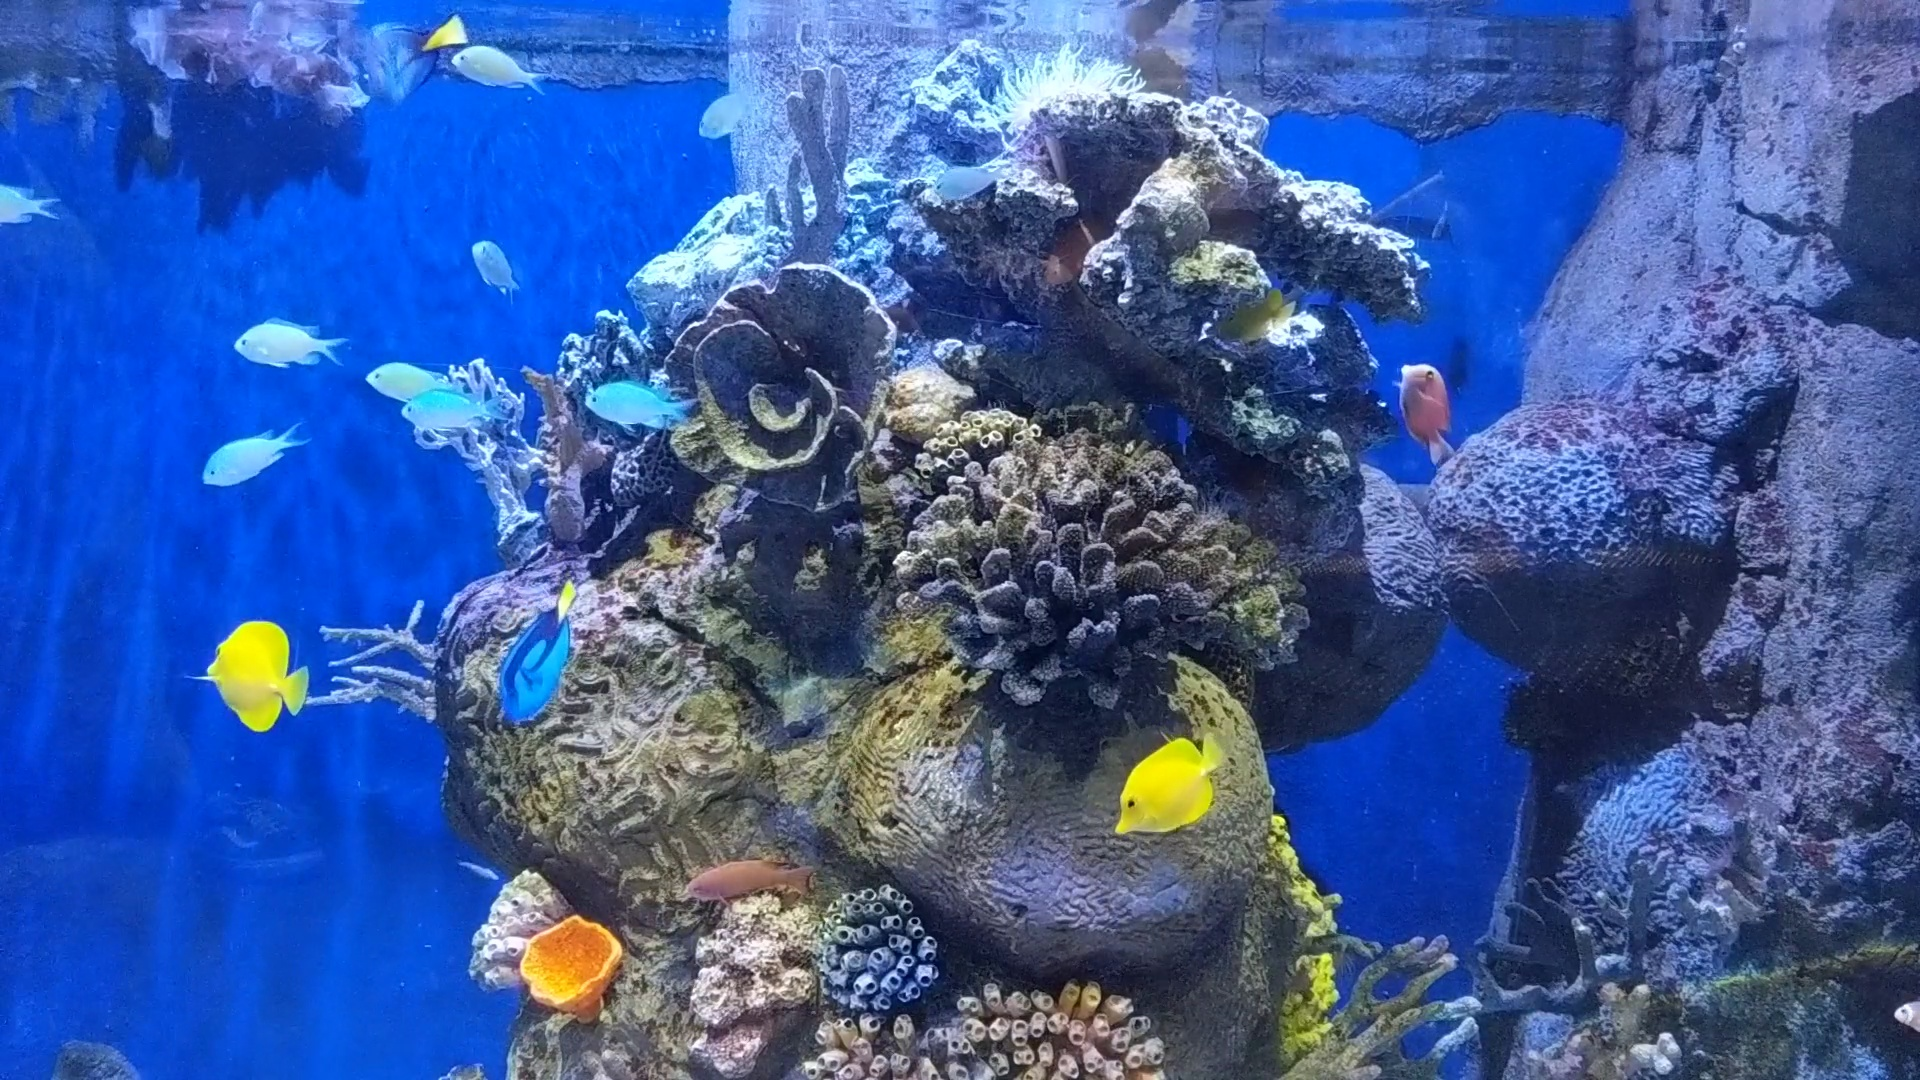blue tang surgeonfish: (334, 0, 476, 105), (480, 589, 582, 713)
damselfish: (562, 352, 698, 438), (390, 388, 502, 452), (446, 40, 553, 103), (935, 141, 1027, 208), (225, 314, 334, 368), (204, 425, 290, 491), (684, 87, 769, 146), (357, 352, 446, 407), (464, 229, 526, 305)
pink fish: (1393, 349, 1460, 483)
saddle butterfly fish: (189, 616, 328, 742), (1109, 724, 1234, 853)
